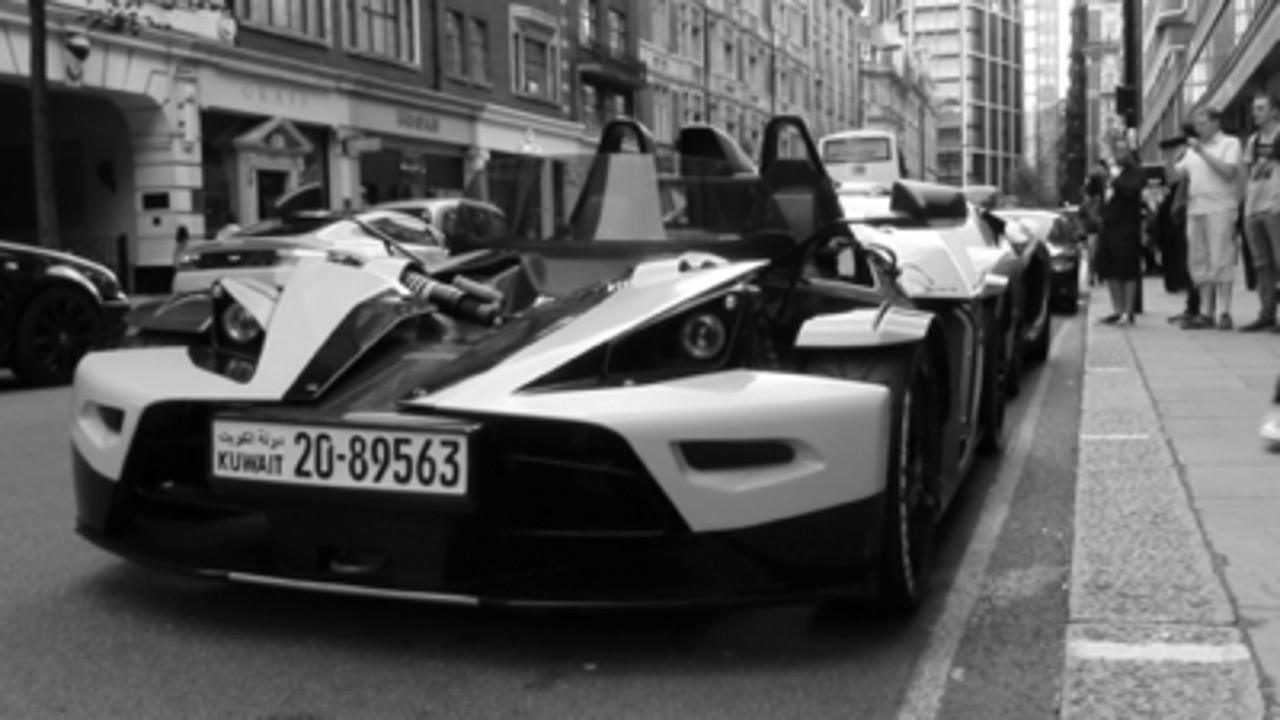license: (204, 407, 476, 510)
